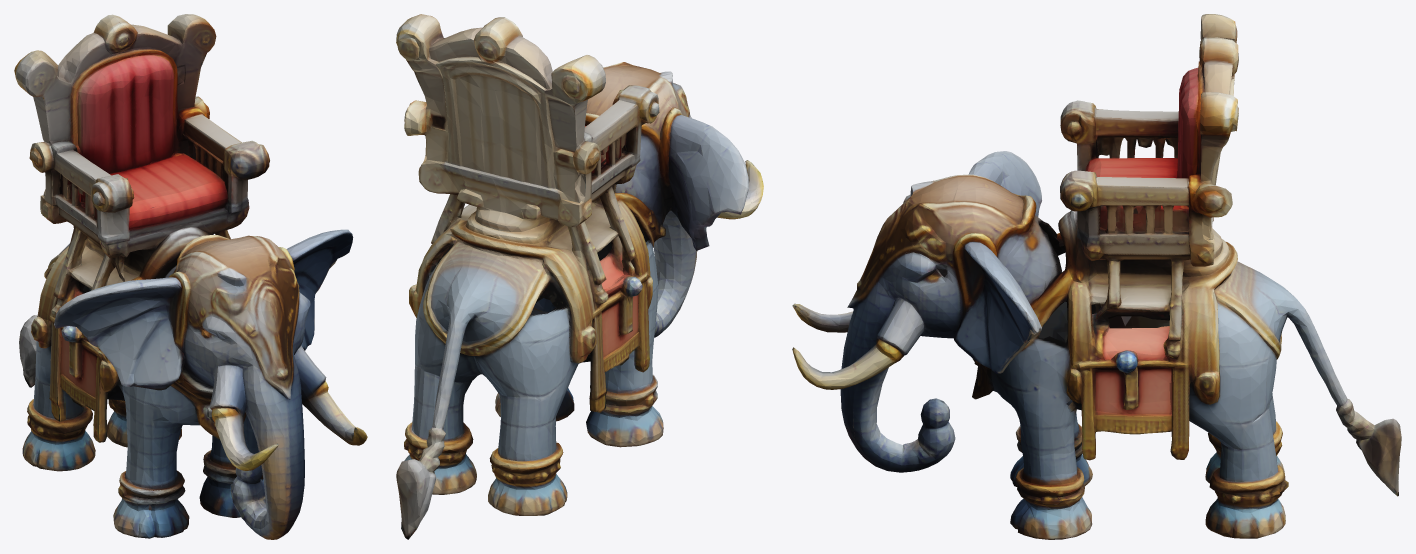
The model's file is typical_creature_elephant_demo_trellis.glb.
3 views of the same model, side by side, from view 1: azimuth 30°, elevation 25°; view 2: azimuth 150°, elevation 25°; view 3: azimuth 270°, elevation 25° (orthographic). The views are drawn at different scales.
Parts seen in each view (by area): view 1: world; view 2: world; view 3: world.
Part boxes in pixels (<box>): world: <box>14,14,367,539</box>; world: <box>396,14,763,539</box>; world: <box>792,14,1401,539</box>.
Size of the model in its own units: 0.5946 by 0.8383 by 1.
Materials: 1 (1 with a texture image).
